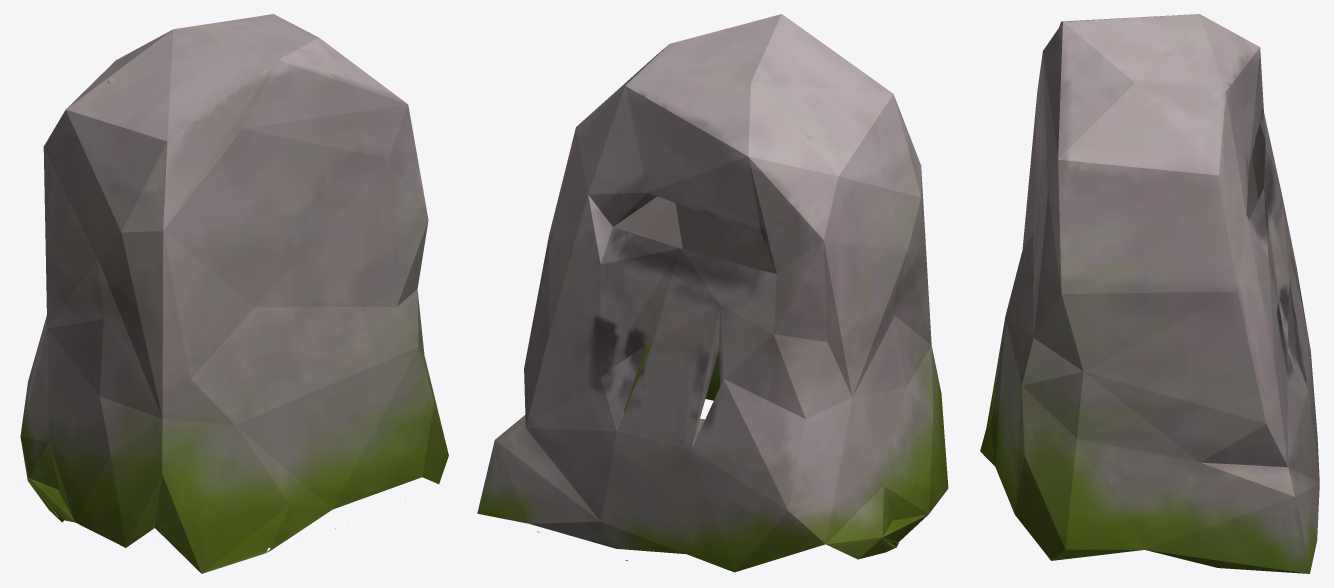
Rendered from road-marker.glb.
The picture shows the model from 3 angles, left to right: view 1: azimuth 30°, elevation 25°; view 2: azimuth 150°, elevation 25°; view 3: azimuth 270°, elevation 25°; orthographic projection.
Visible parts, largest first — view 1: road-marker; view 2: road-marker; view 3: road-marker.
Boxes of the visible parts, box(x1,y1,x2,y2) form: road-marker: box(20, 14, 448, 573); road-marker: box(477, 14, 948, 572); road-marker: box(980, 14, 1319, 573).
Size of the model in its own units: 0.9644 by 1.2 by 0.7905.
Materials: 1 (1 with a texture image).
